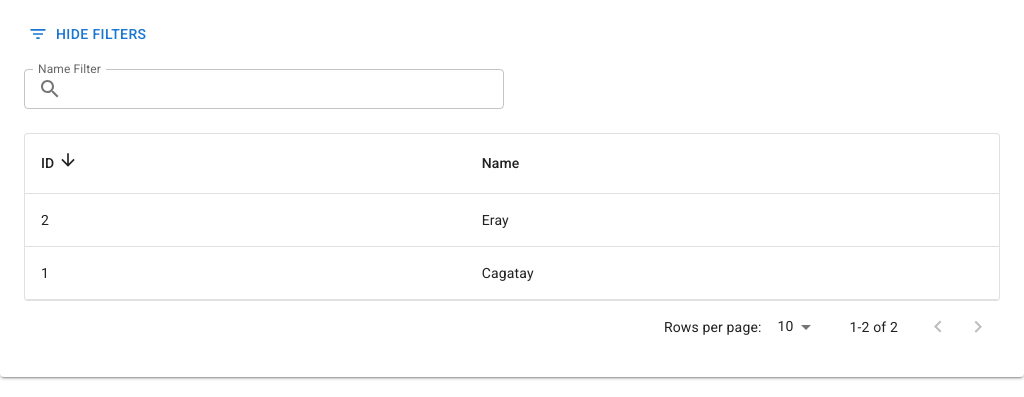
Test case: DataTable › Filters › shows and hides filters when toggle button is clicked
The width and height of the screenshot is (1024, 397).
Click the button "Hide Filters" at coordinates (89, 34), box [24,16,154,52]
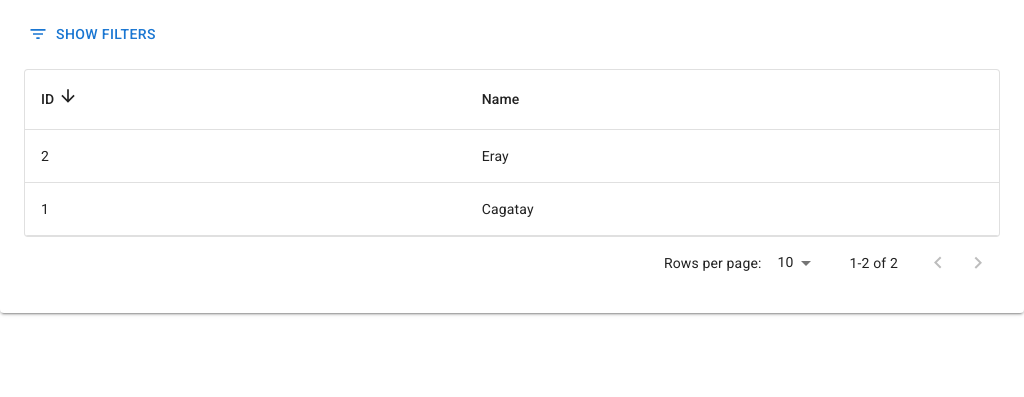
expect the label labelled "Name Filter" is gone: met
Click the button named "hide filters" at coordinates (94, 34), box [24,16,164,52]
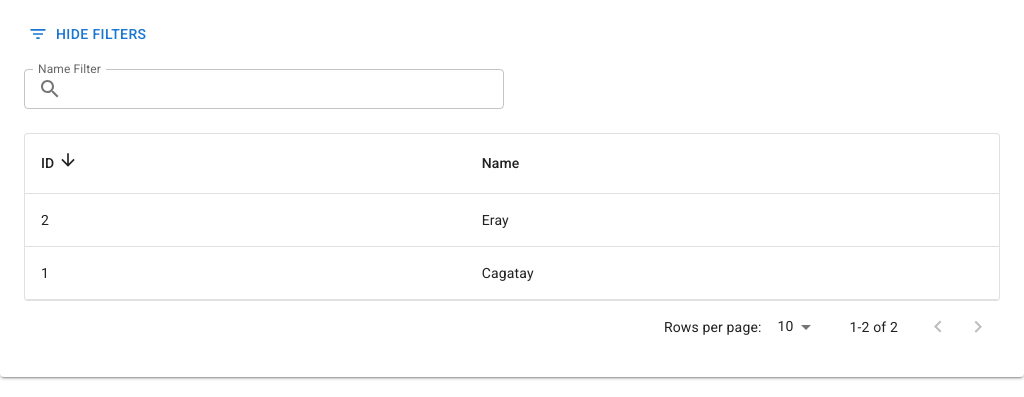
expect the field labelled "Name Filter" is shown: met, box [70,68,504,108]
